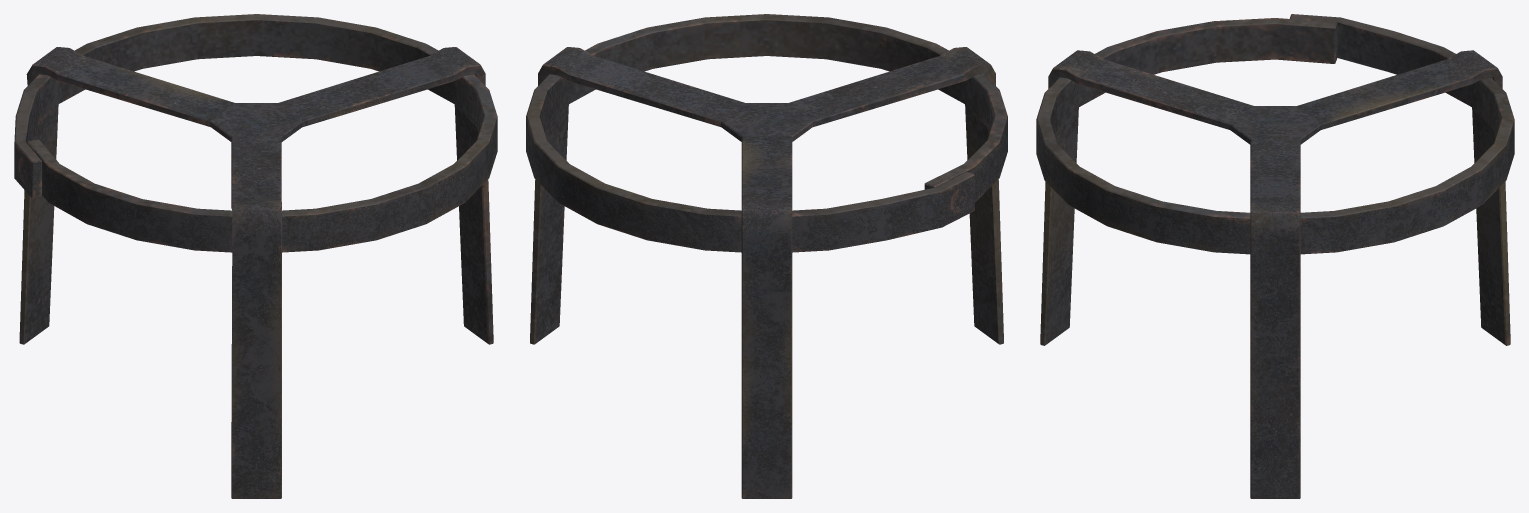
The model's file is SM_Cauldron02a.fbx.
3 renders of one model, left to right at view 1: azimuth 30°, elevation 25°; view 2: azimuth 150°, elevation 25°; view 3: azimuth 270°, elevation 25°, orthographic.
Parts seen in each view (by area): view 1: SM_Cauldron02a; view 2: SM_Cauldron02a; view 3: SM_Cauldron02a.
Boxes of the visible parts, bbox=[...] form: SM_Cauldron02a: bbox=[14, 14, 497, 498]; SM_Cauldron02a: bbox=[526, 14, 1007, 498]; SM_Cauldron02a: bbox=[1036, 14, 1514, 498].
Bounding box in the file's own units: 50.62 × 31.15 × 47.87.
